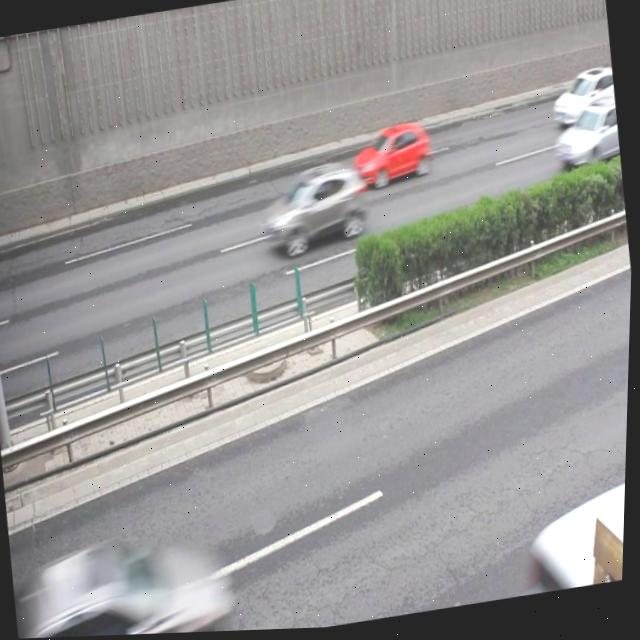car: (12, 524, 236, 639), (259, 160, 369, 259), (547, 96, 623, 178), (350, 123, 434, 195), (548, 68, 618, 132)
truck: (523, 475, 629, 598)
